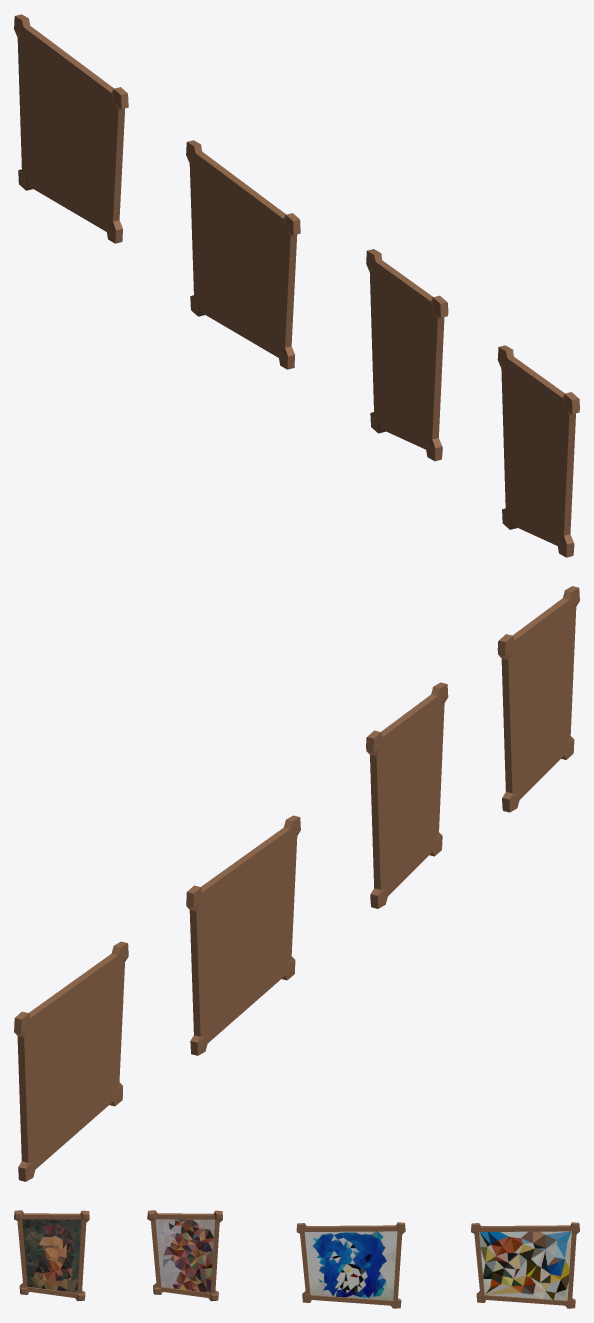
Rendered from Marcos10.fbx.
3 views of the same model, one above another, from view 1: azimuth 30°, elevation 25°; view 2: azimuth 150°, elevation 25°; view 3: azimuth 270°, elevation 25° (orthographic). The views are drawn at different scales.
Visible parts, largest first — view 1: Cube.001, Cube.004, Cube.003, Cube.002; view 2: Cube.004, Cube.001, Cube.002, Cube.003; view 3: Cube.001, Cube.004, Cube.003, Cube.002.
Boxes of the visible parts, left/top/right/bottom form: Cube.001: left=14, top=14, right=128, bottom=243; Cube.004: left=186, top=140, right=300, bottom=369; Cube.003: left=366, top=249, right=448, bottom=461; Cube.002: left=497, top=345, right=579, bottom=557; Cube.004: left=186, top=815, right=300, bottom=1055; Cube.001: left=14, top=941, right=128, bottom=1181; Cube.002: left=497, top=586, right=579, bottom=812; Cube.003: left=366, top=682, right=448, bottom=908; Cube.001: left=471, top=1222, right=579, bottom=1308; Cube.004: left=296, top=1222, right=405, bottom=1308; Cube.003: left=147, top=1210, right=222, bottom=1301; Cube.002: left=14, top=1210, right=89, bottom=1301.
Bounding box in the file's own units: 5.79 × 113 × 599.
